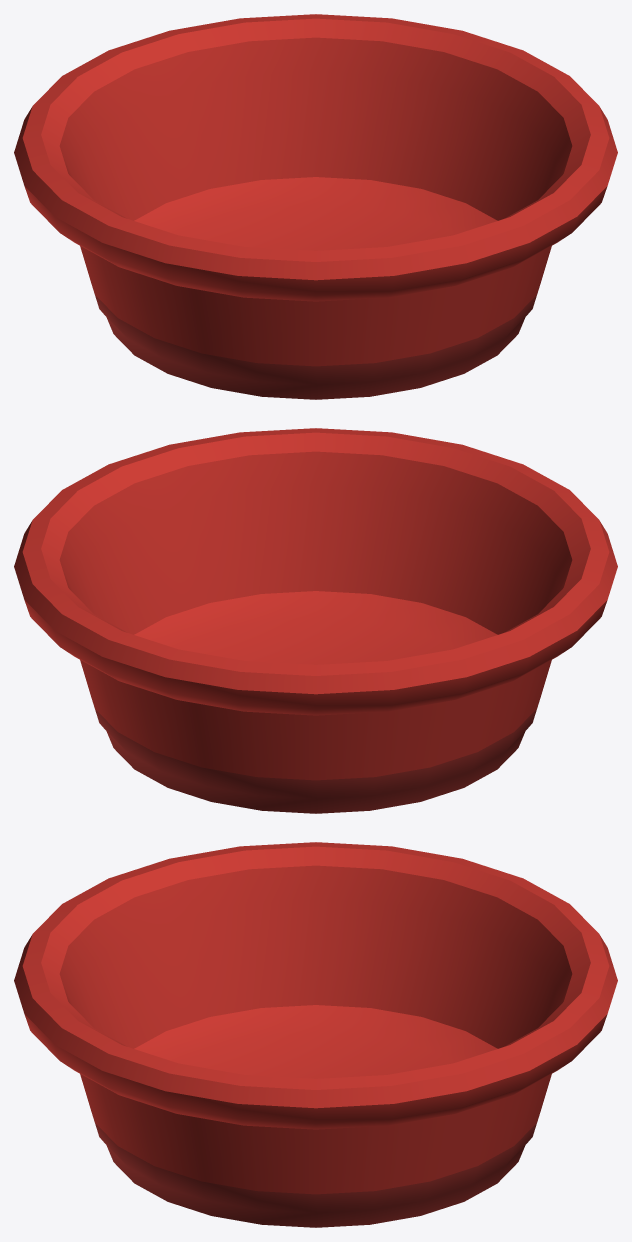
Rendered from SC_Home_RubberBasin_S.gltf.
The picture shows the model from 3 angles, top to bottom: view 1: azimuth 30°, elevation 25°; view 2: azimuth 150°, elevation 25°; view 3: azimuth 270°, elevation 25°; orthographic projection.
Visible parts, largest first — view 1: SC_Home_RubberBasin_S; view 2: SC_Home_RubberBasin_S; view 3: SC_Home_RubberBasin_S.
Boxes of the visible parts, x1=… form: SC_Home_RubberBasin_S: x1=14, y1=14, x2=617, y2=399; SC_Home_RubberBasin_S: x1=14, y1=428, x2=617, y2=813; SC_Home_RubberBasin_S: x1=14, y1=842, x2=617, y2=1227.
Size of the model in its own units: 0.49 by 0.164 by 0.49.
Materials: 1 (1 with a texture image).
